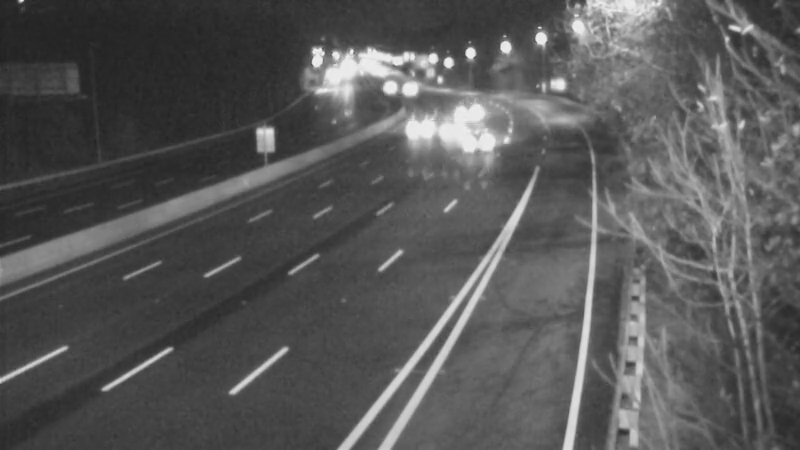vehicle: (376, 62, 426, 112), (359, 58, 409, 108), (434, 89, 484, 139), (392, 99, 442, 149), (428, 102, 478, 152), (454, 121, 504, 171)
